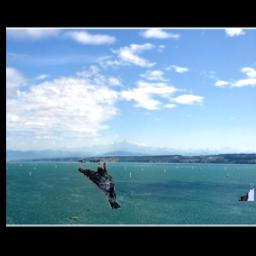Crow: (226, 113, 254, 201), (78, 159, 122, 210)
